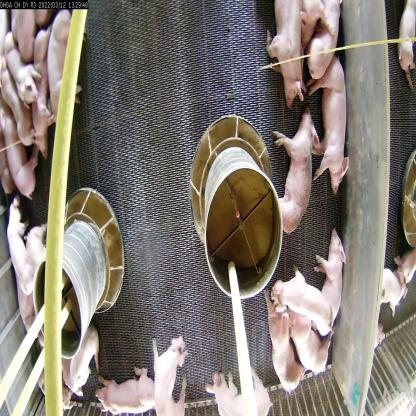Pig: (271, 102, 319, 238), (309, 56, 352, 198), (274, 260, 332, 342), (264, 0, 307, 104), (263, 291, 305, 393), (146, 328, 193, 415), (297, 2, 347, 83), (45, 8, 80, 123), (1, 112, 44, 204), (0, 57, 42, 150), (203, 360, 275, 414), (1, 30, 43, 113), (314, 223, 346, 330), (286, 302, 334, 373), (19, 223, 48, 330), (32, 20, 53, 164), (8, 192, 34, 307), (92, 365, 156, 411), (68, 320, 103, 396), (295, 0, 335, 55), (394, 0, 415, 82), (378, 265, 405, 313)
